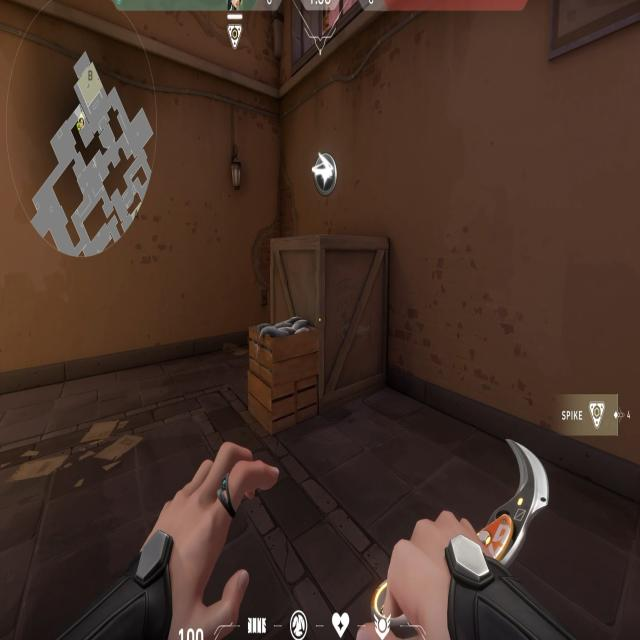B_Main_Wallbang: (234, 126, 394, 427)
